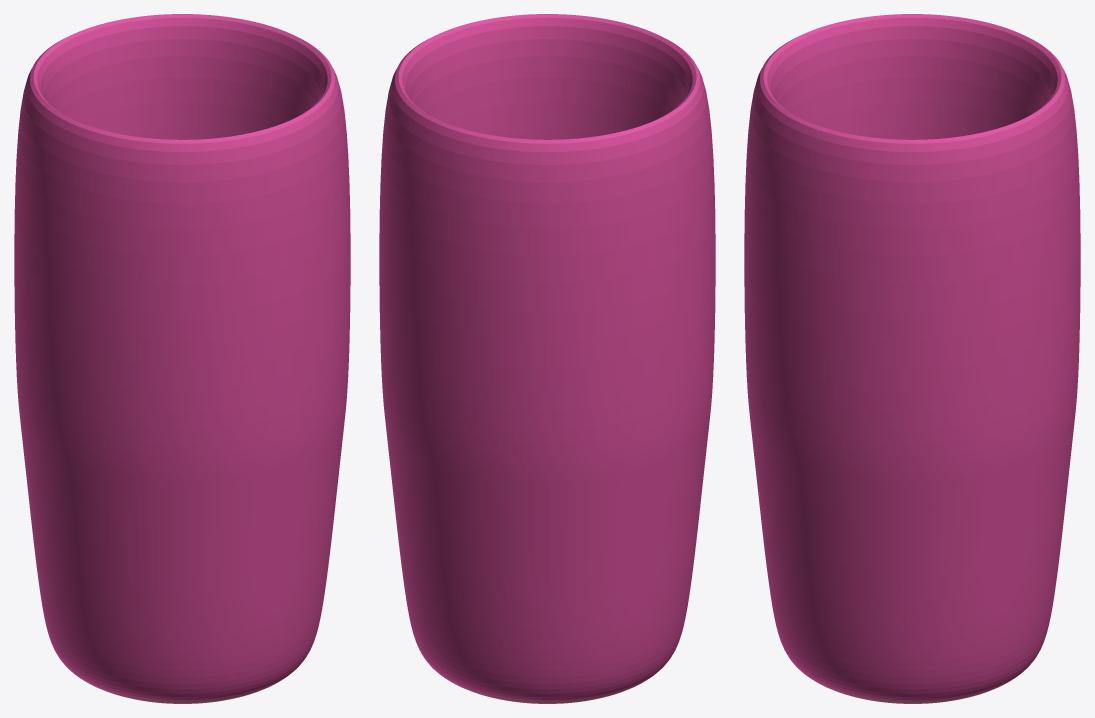
File: vaas3.fbx
3 views of the same model, side by side, from view 1: azimuth 30°, elevation 25°; view 2: azimuth 150°, elevation 25°; view 3: azimuth 270°, elevation 25° (orthographic).
Visible parts, largest first — view 1: Circle; view 2: Circle; view 3: Circle.
Part boxes in pixels (x1=…): Circle: x1=14, y1=14, x2=350, y2=703; Circle: x1=379, y1=14, x2=715, y2=703; Circle: x1=744, y1=14, x2=1080, y2=703.
Bounding box in the file's own units: 337 × 650 × 337.
1 material, 1 textured.
